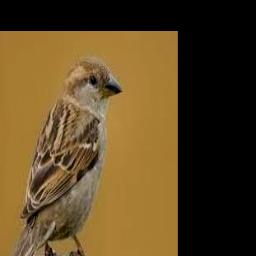Sparrow: (0, 57, 123, 256)
